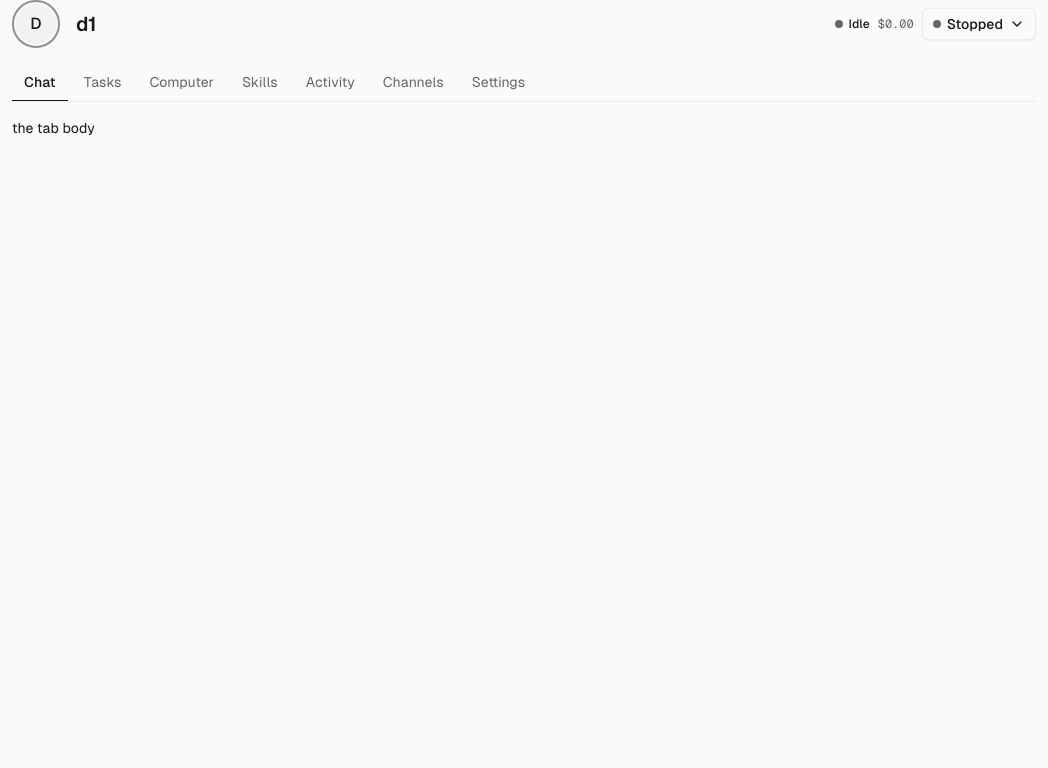
Scenario: the power menu › starts a stopped computer and says so
The width and height of the screenshot is (1048, 768).
expect the heading "d1" is shown: met, box [76,13,96,35]
Click the button "Stopped" at (979, 24), box [922,8,1036,40]
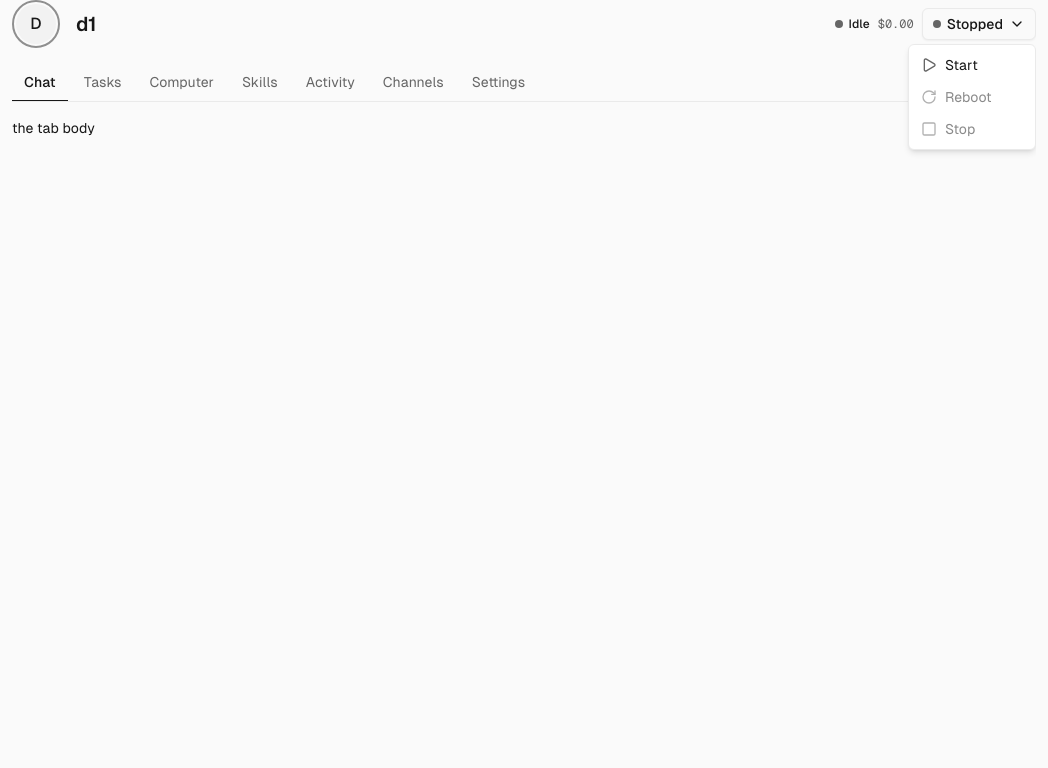
Click the menu item "Start" at (949, 65), box [921,57,978,73]
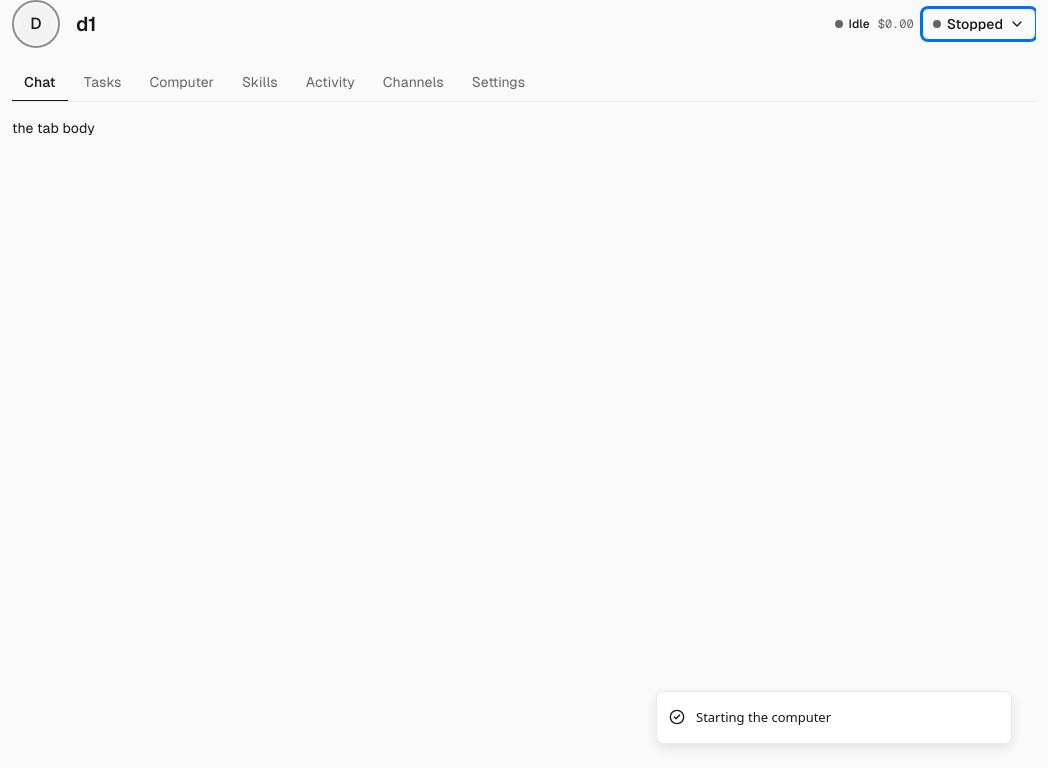
expect the text "Starting the computer" is shown: met, box [696,708,831,727]
